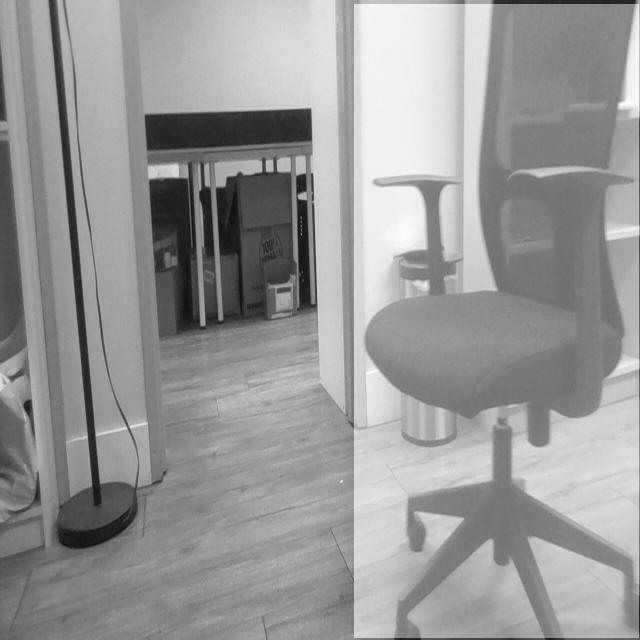chair: (354, 5, 640, 640)
